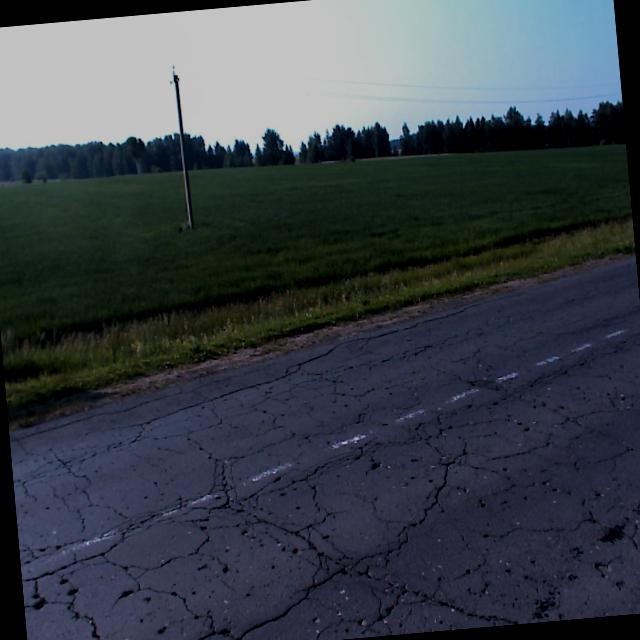road: (9, 255, 640, 640)
